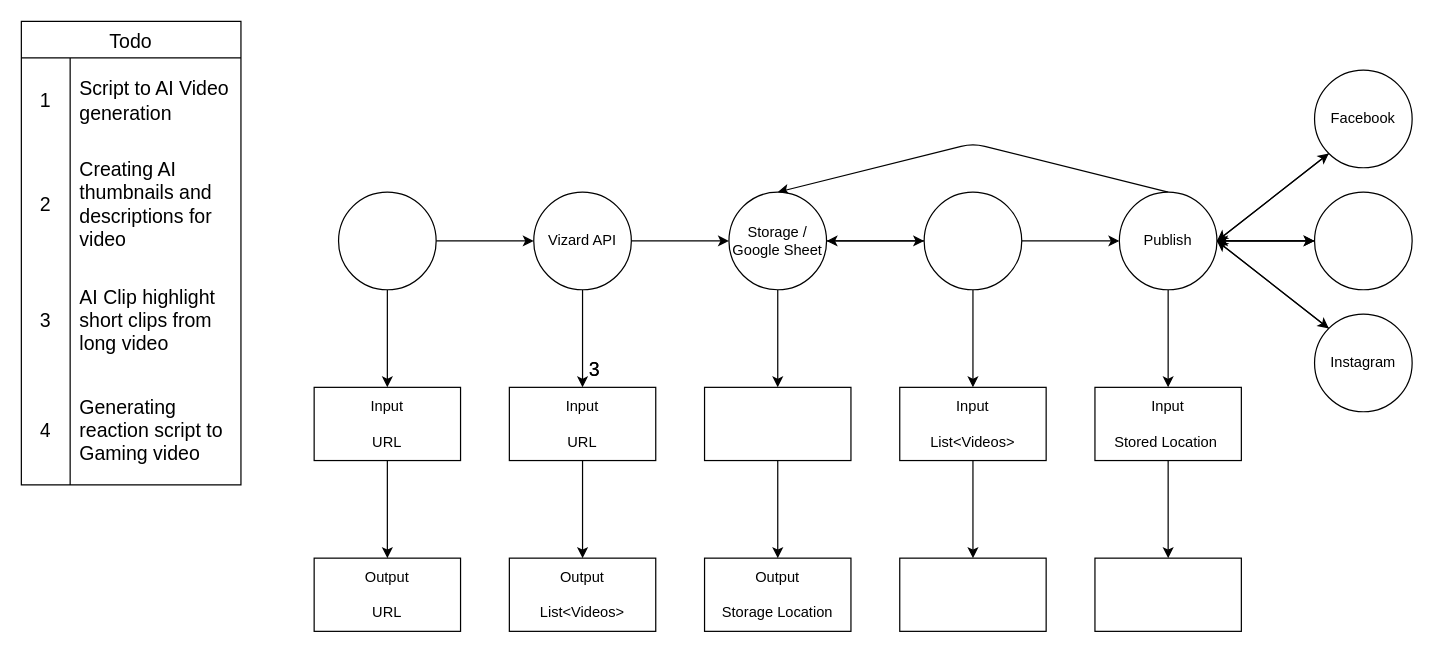
Some shapes in this 1434 by 653 pixel diagram are drawn without their labels. Here are the shapes that lost their labels. From the top down, the centre of each, then its label:
point (386, 240): Google Sheet
point (972, 240): Perplexity
point (1362, 240): Youtube
point (777, 423): Input Storage Location Published URL
point (972, 594): Output Thumbnail Description
point (1167, 594): Output Publish Published URL
